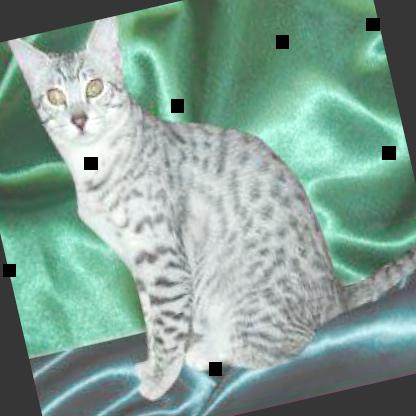cat: (7, 0, 415, 414)
